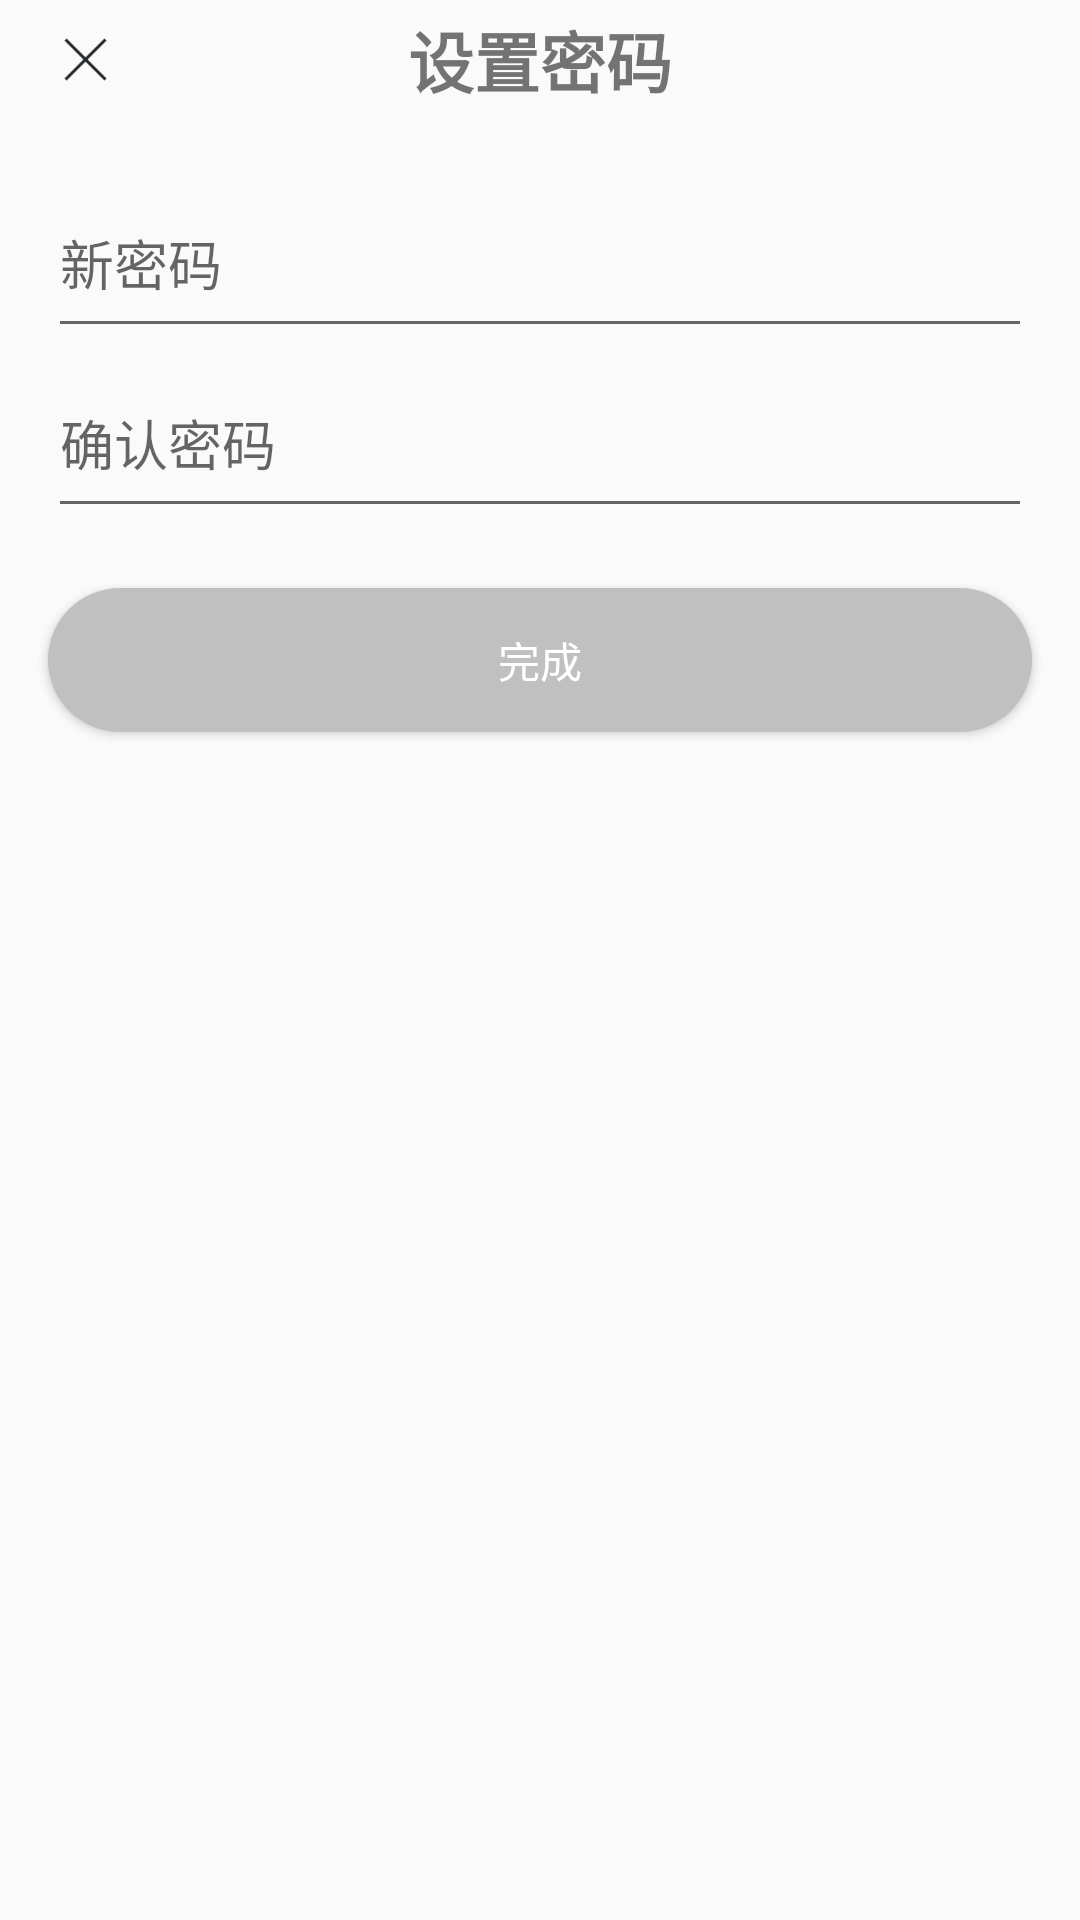

Icon bounding boxes for this 1080px×1920px phone screenshot, format (x1, y1, x2, y2):
close: (64, 38, 107, 81)
